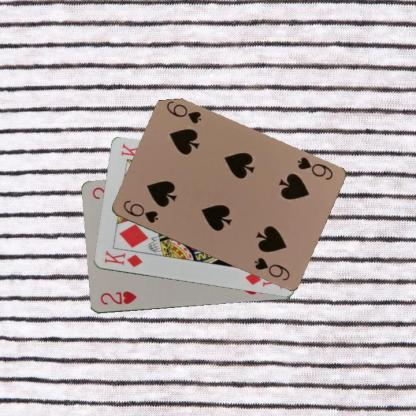2h: (97, 289, 138, 306)
6s: (293, 154, 334, 182), (120, 198, 160, 224)
Kd: (101, 248, 143, 269)
